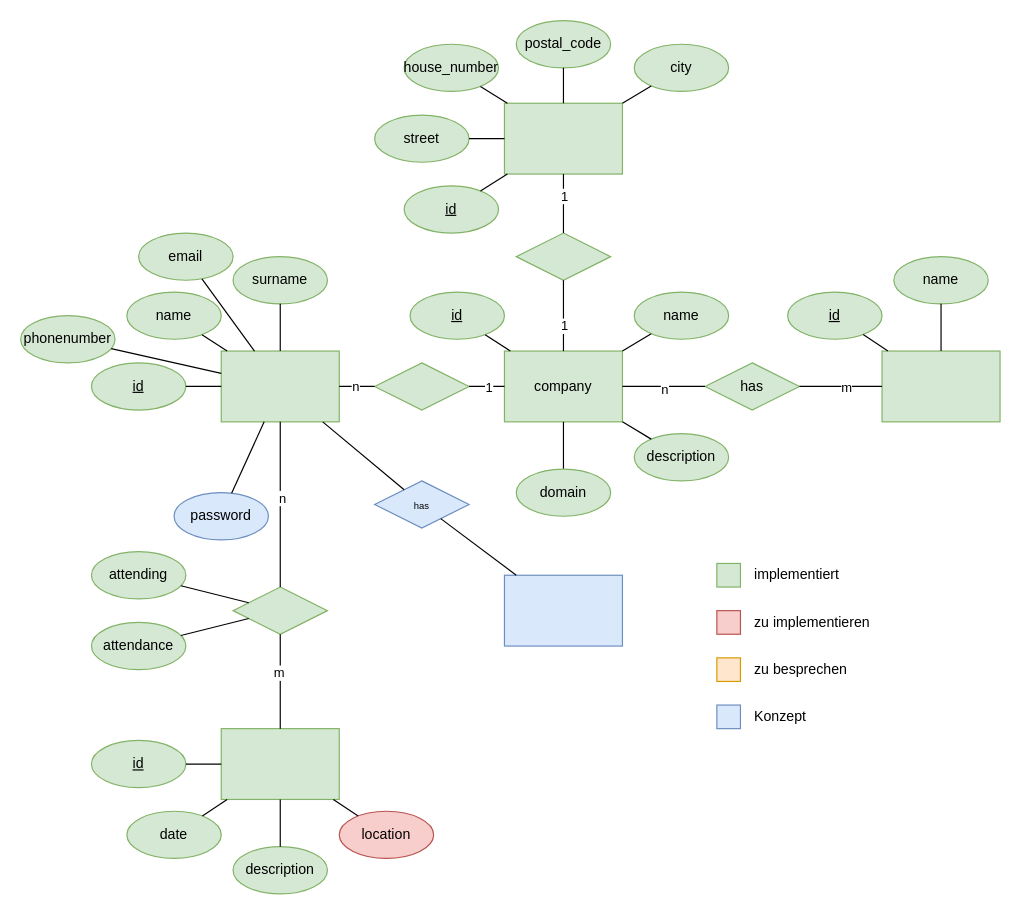
This 1021x914 diagram has some shape labels left out. Here are the shapes that lost their labels. From the top down, the centre of each, then its label:
At (x=562, y=138): "address".
At (x=563, y=256): "located at".
At (x=279, y=386): "user".
At (x=421, y=386): "is part of".
At (x=940, y=386): "profession".
At (x=279, y=610): "event_attendees".
At (x=562, y=610): "role".
At (x=279, y=763): "events".
